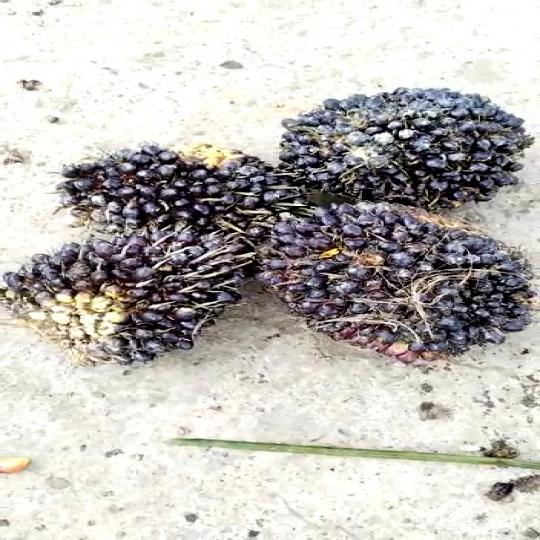mentah: (241, 200, 540, 381), (243, 71, 540, 230), (0, 226, 276, 373), (44, 123, 297, 236)
